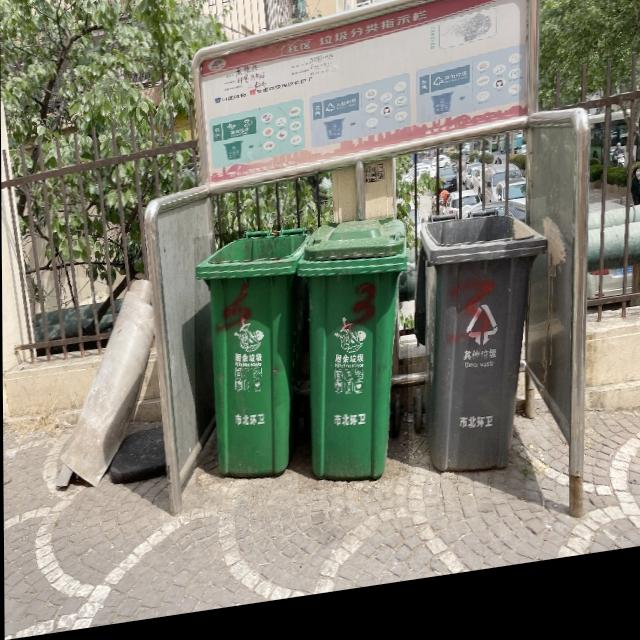garbage_bin: (411, 213, 547, 493), (296, 225, 408, 502), (194, 230, 311, 494)
